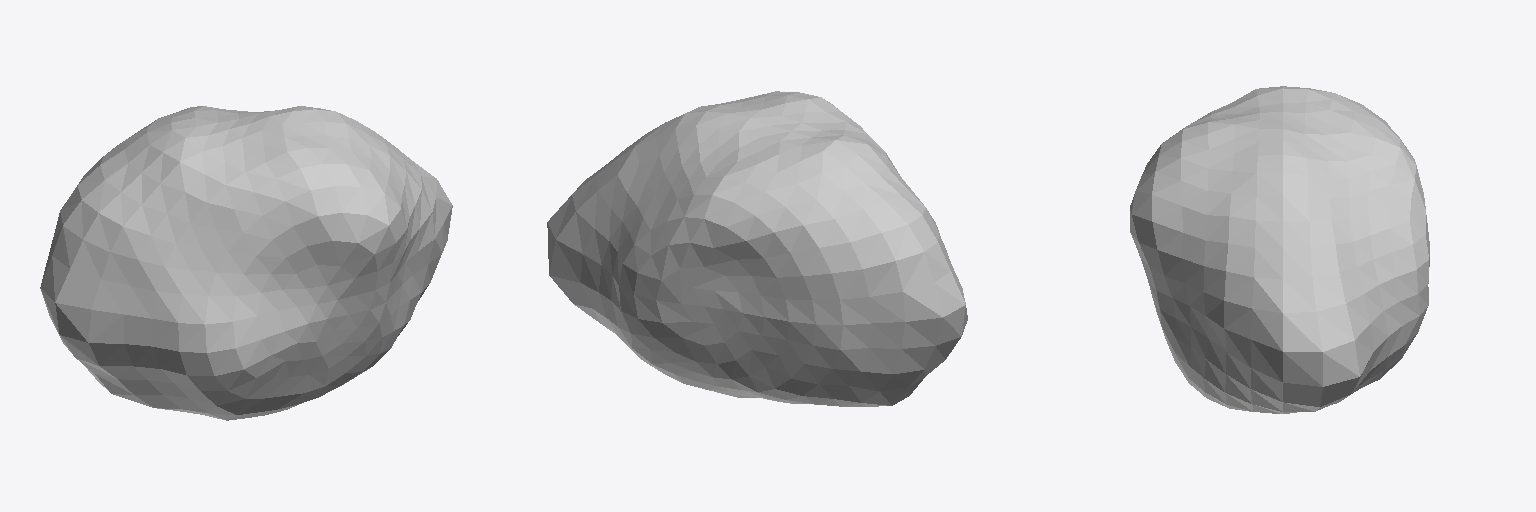
3 renders of one model, left to right at view 1: azimuth 30°, elevation 25°; view 2: azimuth 150°, elevation 25°; view 3: azimuth 270°, elevation 25°, orthographic.
Parts seen in each view (by area): view 1: 10115_1992_SK; view 2: 10115_1992_SK; view 3: 10115_1992_SK.
Boxes of the visible parts, box(x1,y1,x2,y2) form: 10115_1992_SK: box(40, 106, 452, 420); 10115_1992_SK: box(547, 91, 967, 406); 10115_1992_SK: box(1130, 86, 1429, 413).
Bounding box in the file's own units: 1.39 × 0.9012 × 0.9098.